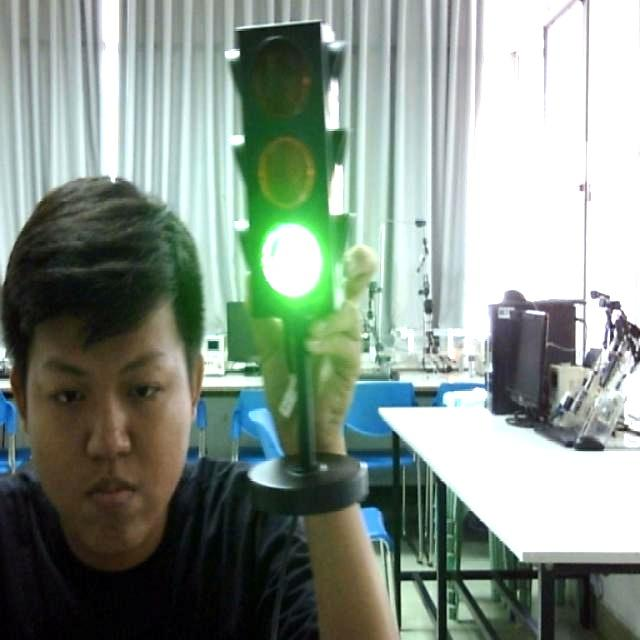Green: (232, 16, 368, 331)
